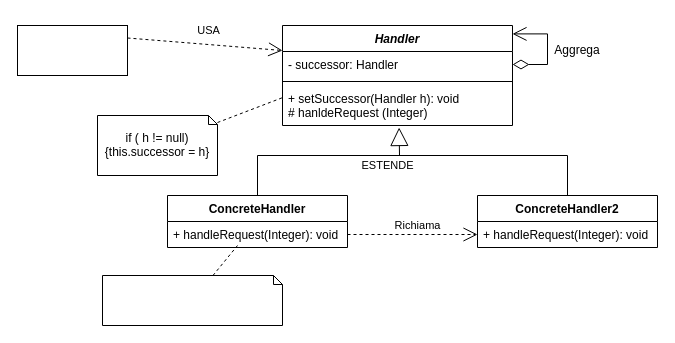
Image size: 675x343. Some labels were removed from this diagram. The shapes that lost their labels are listed below. From the top down, each one's centre as x and y in pixels, then its label:
At point (72, 50): "CLIENT".
At point (192, 300): "If (request) { do} else{successor.handleRequest}".
